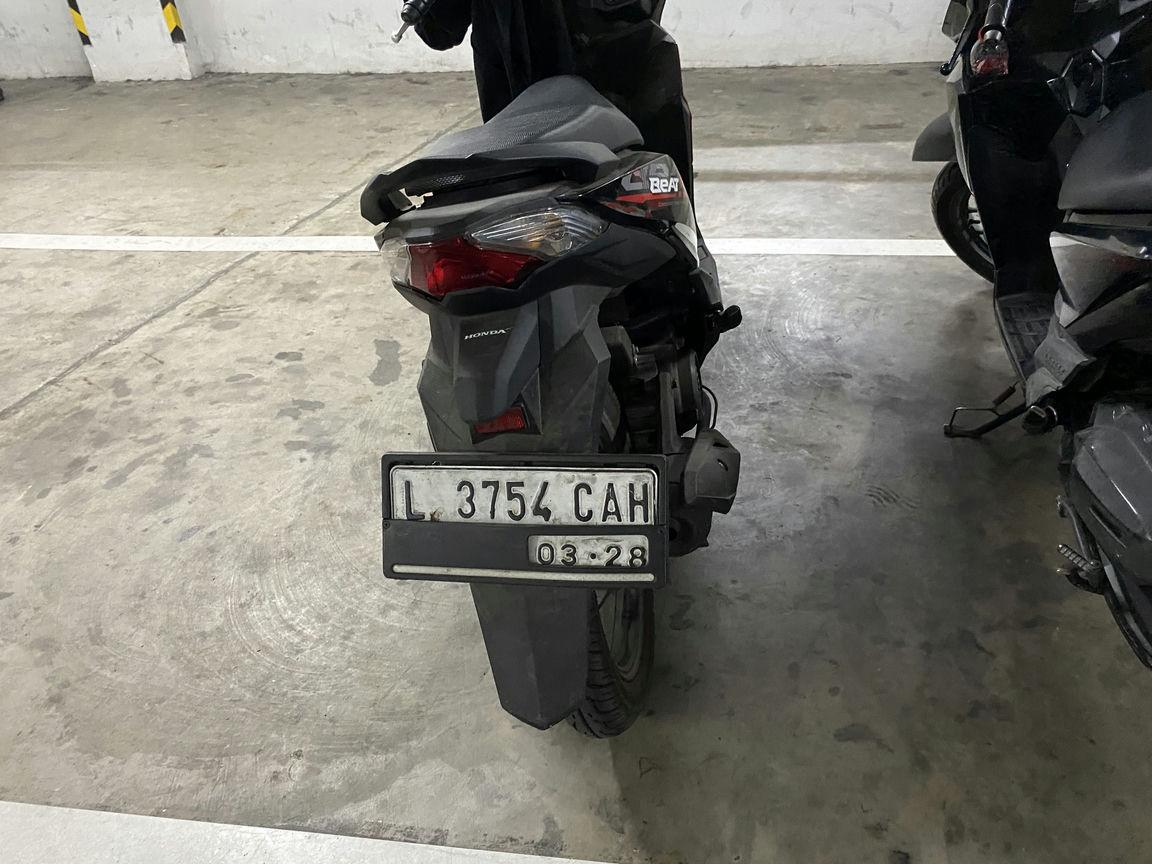plat: (382, 456, 668, 587)
